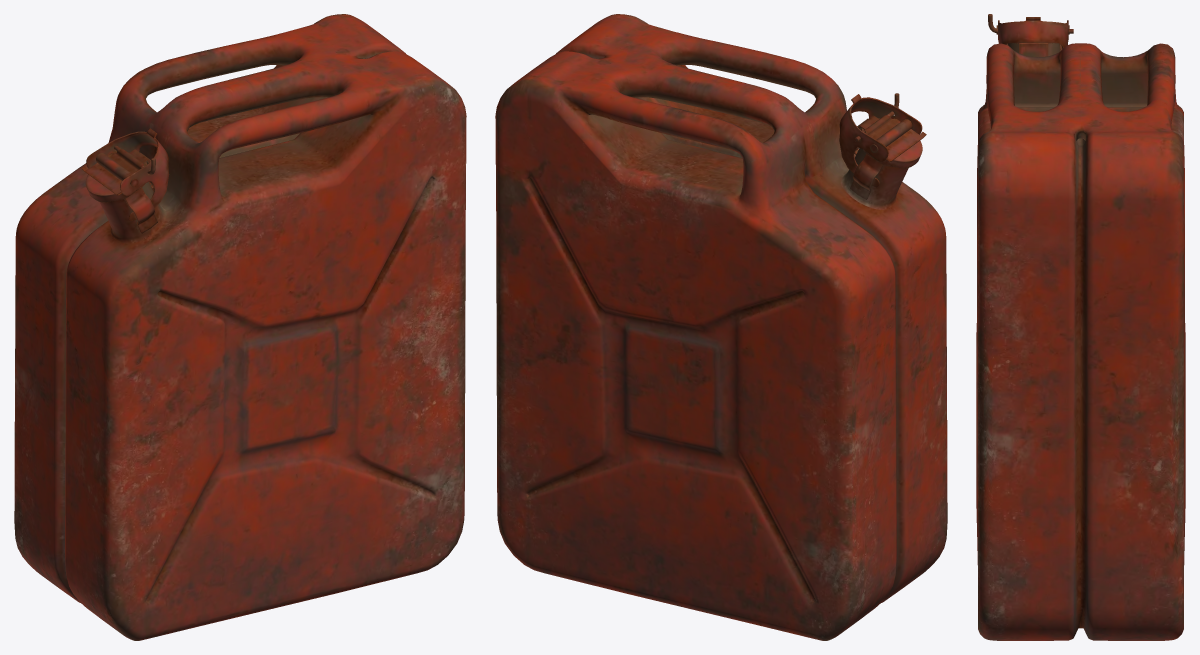
File: metal_jerrycan.glb
3 views of the same model, side by side, from view 1: azimuth 30°, elevation 25°; view 2: azimuth 150°, elevation 25°; view 3: azimuth 270°, elevation 25° (orthographic). The views are drawn at different scales.
Visible parts, largest first — view 1: metal_jerrycan; view 2: metal_jerrycan; view 3: metal_jerrycan.
Boxes of the visible parts, x1=… form: metal_jerrycan: x1=14, y1=14, x2=466, y2=640; metal_jerrycan: x1=495, y1=14, x2=947, y2=640; metal_jerrycan: x1=976, y1=14, x2=1185, y2=640.
Bounding box in the file's own units: 0.3503 × 0.4552 × 0.1718.
Materials: 1 (1 with a texture image).
